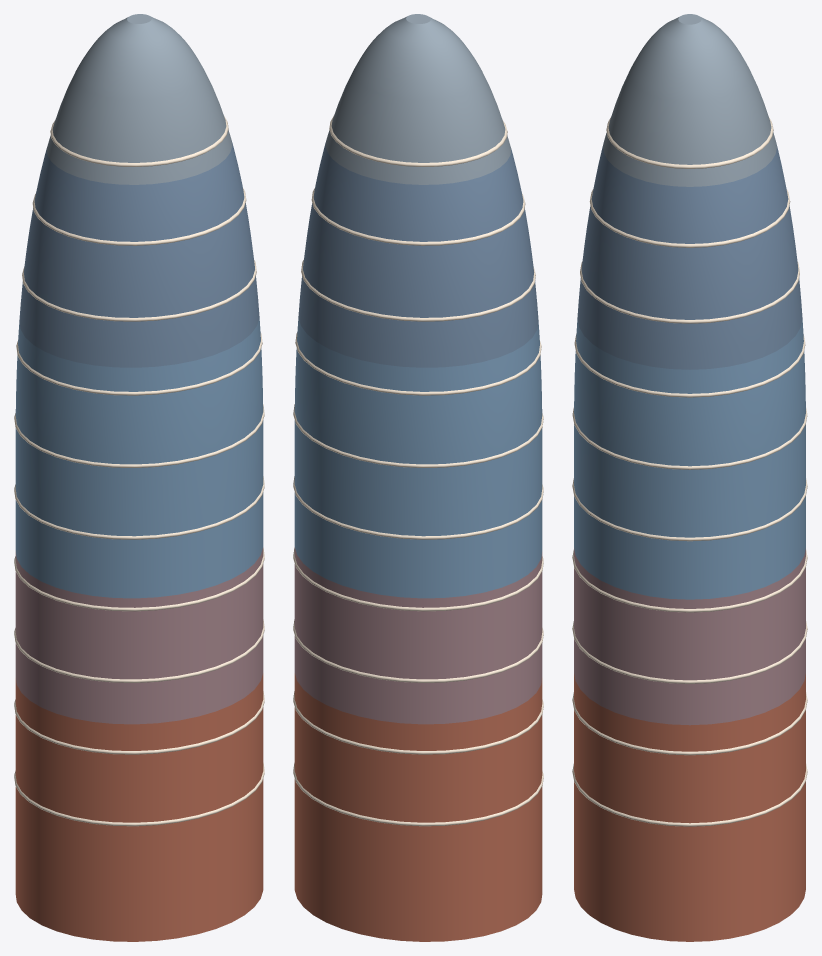
Rendered from barcelona-torre-glories.glb.
3 renders of one model, left to right at view 1: azimuth 30°, elevation 25°; view 2: azimuth 150°, elevation 25°; view 3: azimuth 270°, elevation 25°, orthographic.
Visible parts, largest first — view 1: Torre Glòries; view 2: Torre Glòries; view 3: Torre Glòries.
Part boxes in pixels (<box>): Torre Glòries: <box>14,14,264,941</box>; Torre Glòries: <box>293,14,543,941</box>; Torre Glòries: <box>572,14,807,941</box>.
Size of the model in its own units: 40.44 by 152 by 37.34.
